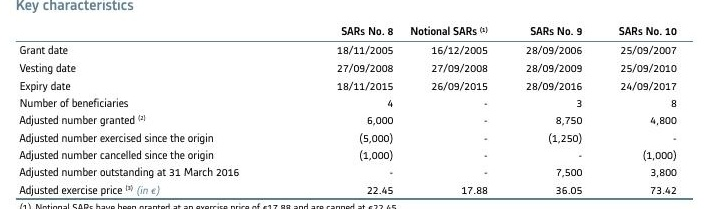table: (0, 0, 705, 209)
